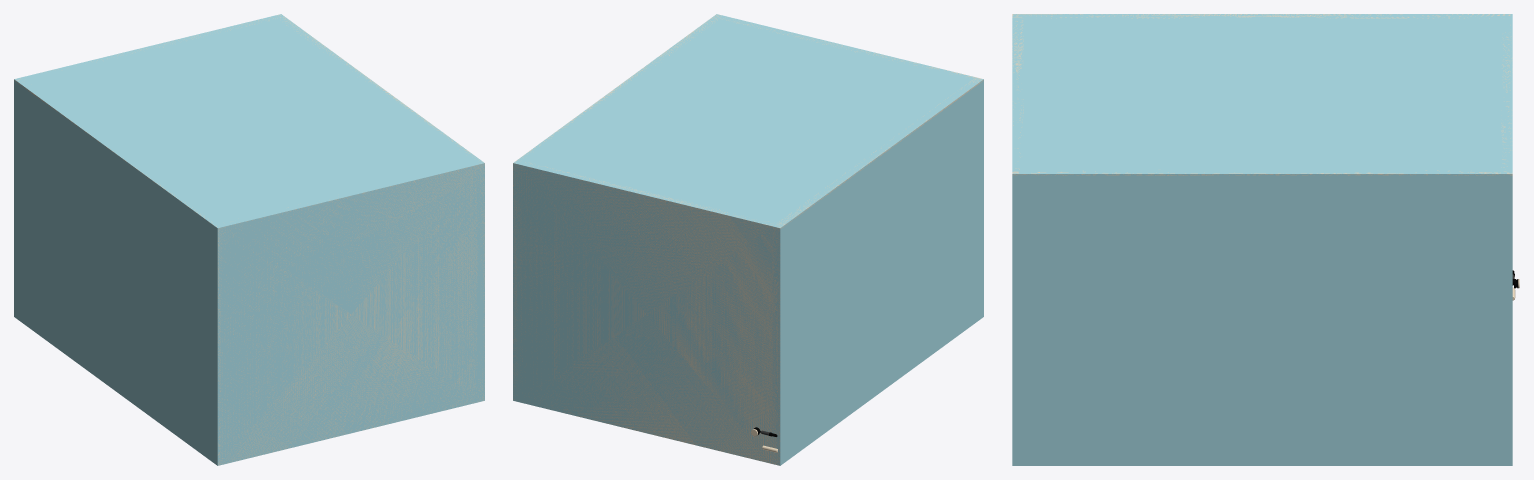
The picture shows the model from 3 angles, left to right: view 1: azimuth 30°, elevation 25°; view 2: azimuth 150°, elevation 25°; view 3: azimuth 270°, elevation 25°; orthographic projection. The views are drawn at different scales.
Visible parts, largest first — view 1: Body1.009, Body1.002, Body1.001; view 2: Body1.009, Body1, Body1.003, Body1.001; view 3: Body1.009, Body1.003, Body1.004.
Boxes of the visible parts, x1=… form: Body1.009: x1=14, y1=14, x2=484, y2=465; Body1.002: x1=225, y1=165, x2=476, y2=463; Body1.001: x1=277, y1=14, x2=484, y2=401; Body1.009: x1=513, y1=14, x2=983, y2=465; Body1: x1=521, y1=162, x2=772, y2=463; Body1.003: x1=772, y1=77, x2=982, y2=465; Body1.001: x1=513, y1=14, x2=721, y2=399; Body1.009: x1=1012, y1=14, x2=1512, y2=465; Body1.003: x1=1012, y1=14, x2=1510, y2=18; Body1.004: x1=1012, y1=174, x2=1512, y2=175.
Bounding box in the file's own units: 0.6 × 0.51 × 0.803.
